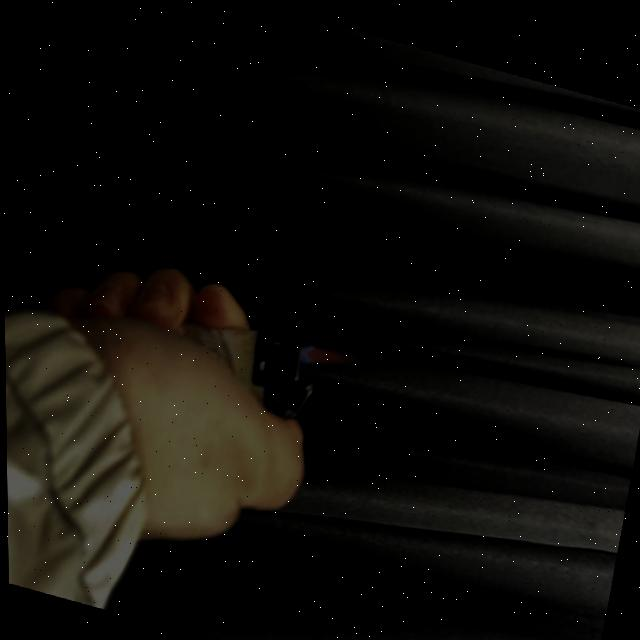Fire: (296, 332, 362, 372)
